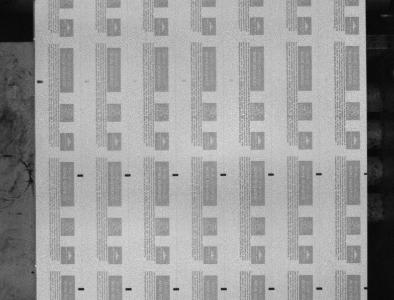backgroundclutter: (31, 271, 35, 274)
incorrect qblock: (37, 80, 45, 84), (268, 173, 275, 176), (172, 173, 179, 176), (220, 173, 227, 176), (77, 174, 83, 177), (125, 174, 131, 177), (316, 173, 322, 175), (364, 287, 368, 290), (364, 172, 368, 175)
smallqblock: (316, 287, 323, 290), (269, 287, 275, 290), (221, 287, 227, 290), (173, 287, 179, 290), (78, 288, 85, 290), (125, 288, 132, 290)
